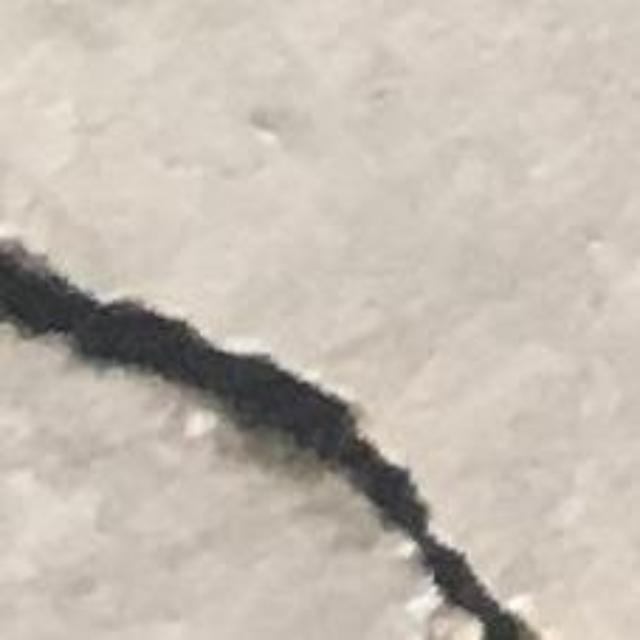crack: (0, 240, 535, 639)
